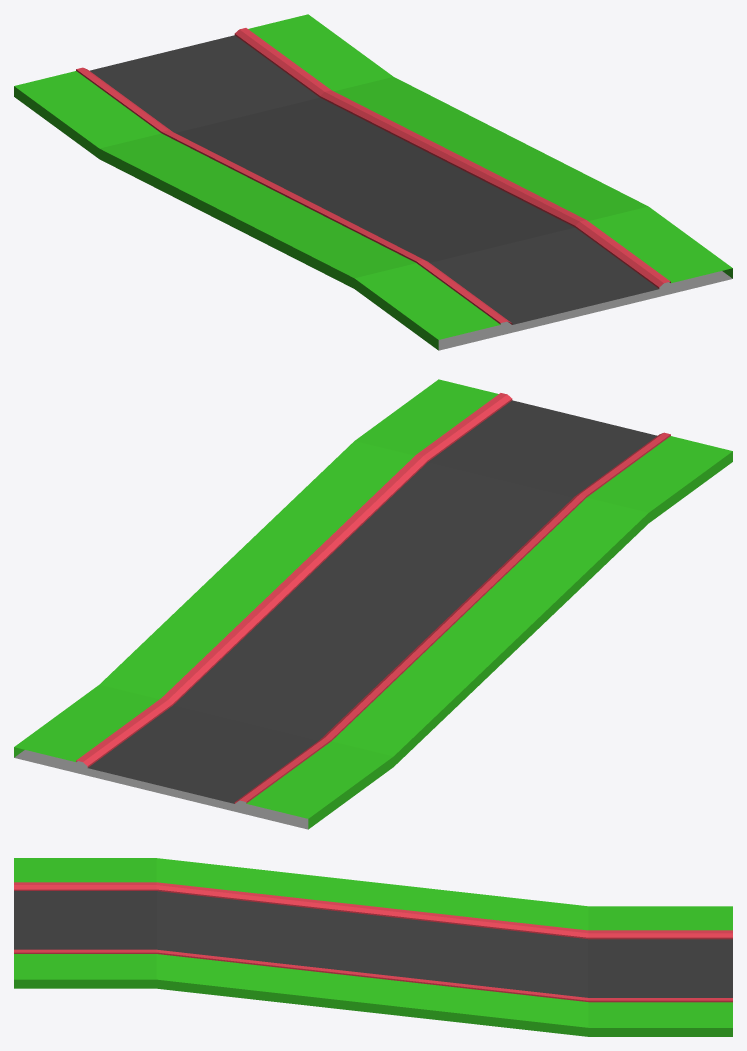
File: slope_down.fbx
3 renders of one model, top to bottom at view 1: azimuth 30°, elevation 25°; view 2: azimuth 150°, elevation 25°; view 3: azimuth 270°, elevation 25°, orthographic. The views are drawn at different scales.
Visible parts, largest first — view 1: slope_down; view 2: slope_down; view 3: slope_down.
Part boxes in pixels (bbox=[...]): slope_down: bbox=[14, 14, 732, 350]; slope_down: bbox=[14, 379, 732, 829]; slope_down: bbox=[14, 858, 732, 1036].
Size of the model in its own units: 2000 by 450 by 4999.
